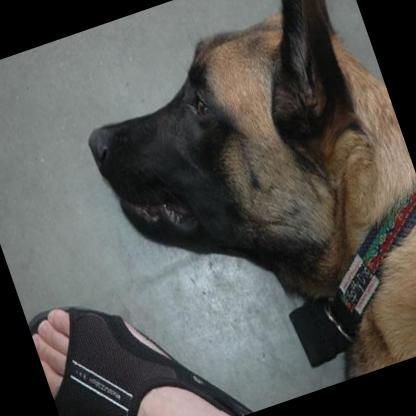malinois: (49, 0, 416, 416)
